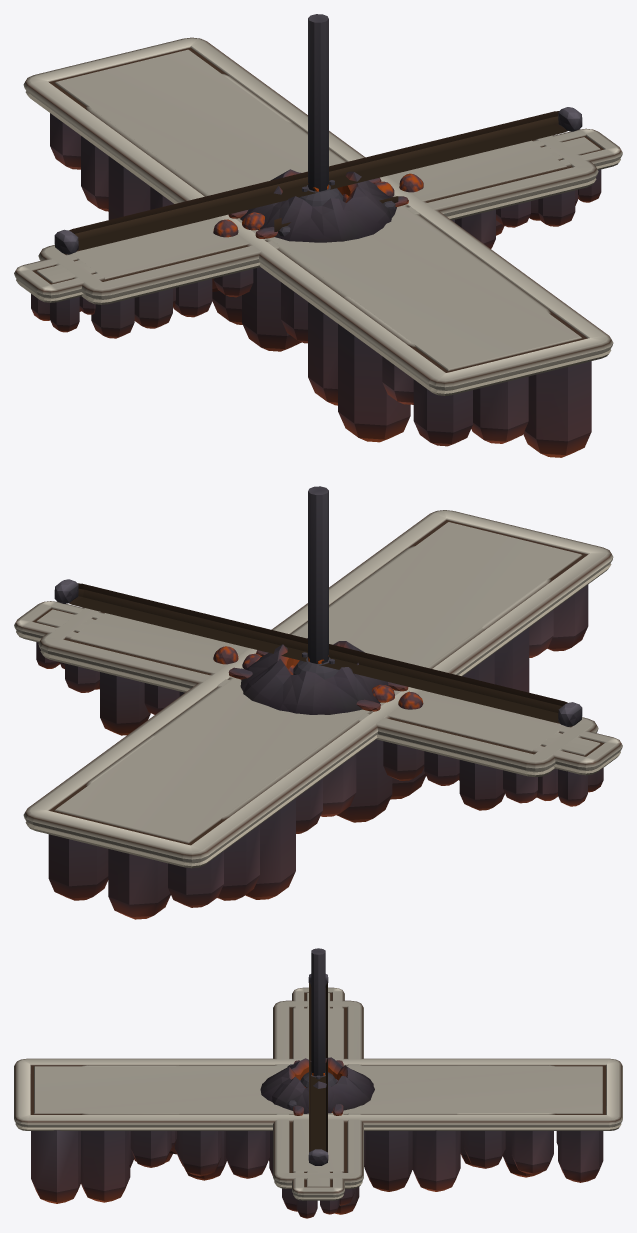
The model's file is volcano-3-BrDHiA1w.glb.
3 views of the same model, one above another, from view 1: azimuth 30°, elevation 25°; view 2: azimuth 150°, elevation 25°; view 3: azimuth 270°, elevation 25° (orthographic). The views are drawn at different scales.
Visible parts, largest first — view 1: block_10x2x40#0, block_28x2x6#0, mount_13.8#0, block_32x2x3.5_grate#0, geyserVent_3#0, press_2x6x6#0, block_8x2x32_grate#0, block_8x2x20_ice#0, balls_11.6x1.4#0; view 2: block_10x2x40#0, block_28x2x6#0, mount_13.8#0, block_32x2x3.5_grate#0, geyserVent_3#0, press_2x6x6#0, block_8x2x32_grate#0, block_8x2x20_ice#0, balls_11.6x1.4#0, jetVent_8x3#0; view 3: block_10x2x40#0, block_28x2x6#0, geyserVent_3#0, block_32x2x3.5_grate#0, mount_13.8#0, block_8x2x32_grate#0, press_2x6x6#0, block_8x2x20_ice#0.
Boxes of the visible parts, bbox=[...] form: block_10x2x40#0: bbox=[23, 37, 613, 457]; block_28x2x6#0: bbox=[38, 135, 598, 338]; mount_13.8#0: bbox=[54, 107, 582, 254]; block_32x2x3.5_grate#0: bbox=[14, 128, 622, 332]; geyserVent_3#0: bbox=[240, 169, 396, 242]; press_2x6x6#0: bbox=[308, 14, 328, 191]; block_8x2x32_grate#0: bbox=[85, 73, 551, 347]; block_8x2x20_ice#0: bbox=[151, 121, 485, 297]; balls_11.6x1.4#0: bbox=[213, 173, 423, 237]; block_10x2x40#0: bbox=[23, 510, 613, 919]; block_28x2x6#0: bbox=[38, 607, 598, 810]; mount_13.8#0: bbox=[54, 579, 582, 726]; block_32x2x3.5_grate#0: bbox=[14, 601, 622, 806]; geyserVent_3#0: bbox=[240, 638, 389, 714]; press_2x6x6#0: bbox=[308, 486, 328, 663]; block_8x2x32_grate#0: bbox=[85, 546, 551, 819]; block_8x2x20_ice#0: bbox=[151, 594, 485, 770]; balls_11.6x1.4#0: bbox=[213, 646, 423, 709]; jetVent_8x3#0: bbox=[228, 650, 408, 711]; block_10x2x40#0: bbox=[14, 1058, 622, 1203]; block_28x2x6#0: bbox=[273, 1000, 363, 1214]; geyserVent_3#0: bbox=[260, 1057, 374, 1113]; block_32x2x3.5_grate#0: bbox=[292, 987, 344, 1218]; mount_13.8#0: bbox=[308, 974, 328, 1165]; block_8x2x32_grate#0: bbox=[81, 1065, 555, 1180]; press_2x6x6#0: bbox=[311, 948, 325, 1076]; block_8x2x20_ice#0: bbox=[174, 1065, 460, 1166].
Size of the model in its own units: 32 by 16.8 by 40.
